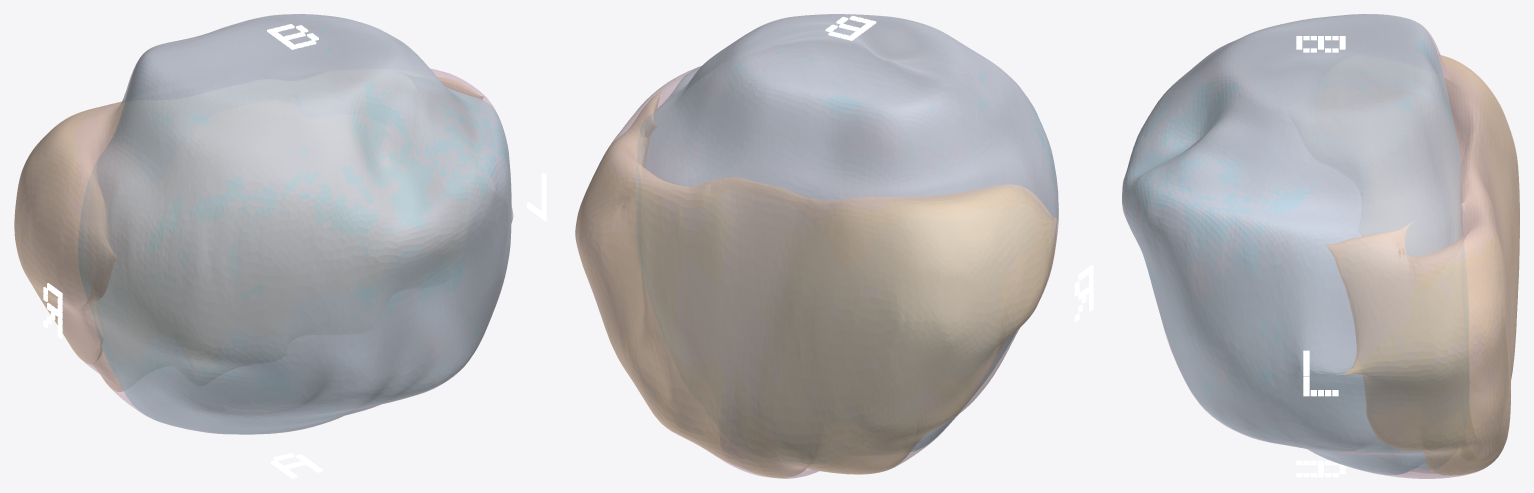
3 views of the same model, side by side, from view 1: azimuth 30°, elevation 25°; view 2: azimuth 150°, elevation 25°; view 3: azimuth 270°, elevation 25° (orthographic). The views are drawn at different scales.
Parts seen in each view (by area): view 1: prostate_gland, transition_zone, peripheral_zone, pv_ar_marker_B, pv_ar_marker_R, pv_ar_marker_A; view 2: prostate_gland, peripheral_zone, transition_zone, pv_ar_marker_B, pv_ar_marker_R; view 3: prostate_gland, transition_zone, peripheral_zone, pv_ar_marker_B, pv_ar_marker_A, pv_ar_marker_L.
Part boxes in pixels (bbox=[...]): prostate_gland: bbox=[14, 14, 513, 434]; transition_zone: bbox=[78, 14, 511, 434]; peripheral_zone: bbox=[14, 77, 483, 391]; pv_ar_marker_B: bbox=[267, 24, 318, 49]; pv_ar_marker_R: bbox=[43, 283, 62, 338]; pv_ar_marker_A: bbox=[270, 453, 322, 478]; prostate_gland: bbox=[575, 14, 1058, 478]; peripheral_zone: bbox=[575, 91, 1056, 477]; transition_zone: bbox=[636, 14, 1057, 451]; pv_ar_marker_B: bbox=[825, 15, 876, 40]; pv_ar_marker_R: bbox=[1074, 264, 1093, 321]; prostate_gland: bbox=[1122, 14, 1519, 478]; transition_zone: bbox=[1122, 14, 1469, 474]; peripheral_zone: bbox=[1325, 55, 1519, 475]; pv_ar_marker_B: bbox=[1296, 36, 1345, 52]; pv_ar_marker_A: bbox=[1296, 460, 1345, 477]; pv_ar_marker_L: bbox=[1303, 350, 1338, 396].
Size of the model in its own units: 0.0633 by 0.0536 by 0.0453.
